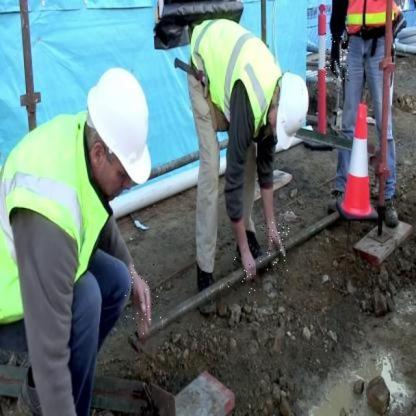bota: (195, 258, 217, 315), (380, 193, 399, 228), (325, 181, 345, 214)
capacete: (83, 68, 151, 200), (266, 73, 309, 151)
